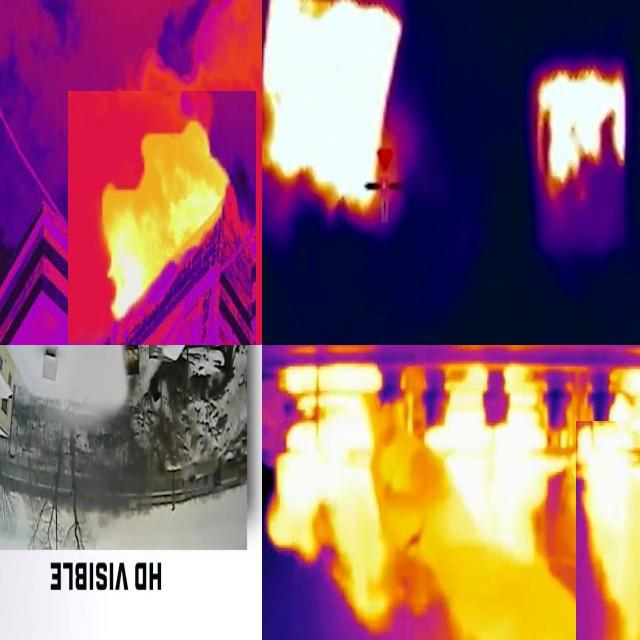fire: (263, 1, 402, 212), (100, 120, 232, 320), (435, 388, 557, 510), (267, 379, 391, 490), (535, 60, 631, 185), (582, 395, 640, 496), (125, 346, 141, 368)
